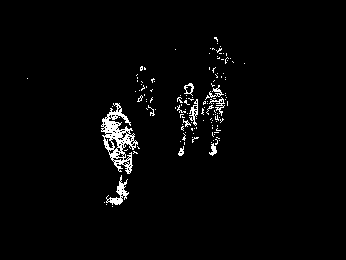person: (100, 99, 140, 204), (201, 79, 229, 158), (177, 81, 201, 159)
